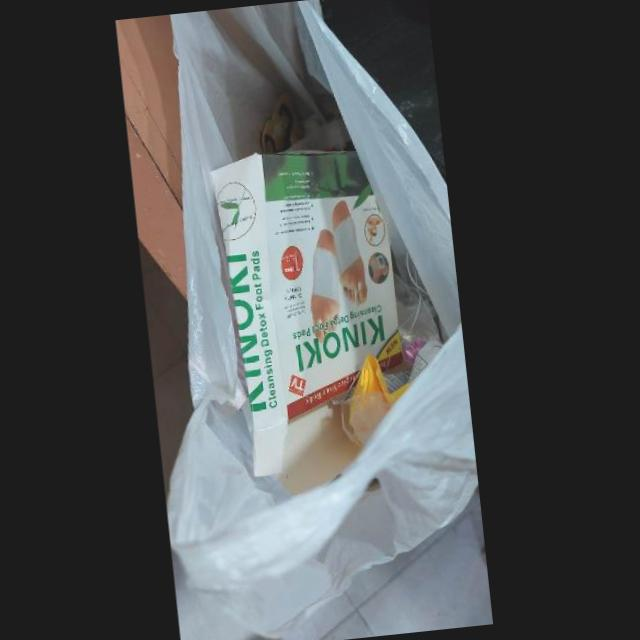carton: (210, 149, 409, 497)
